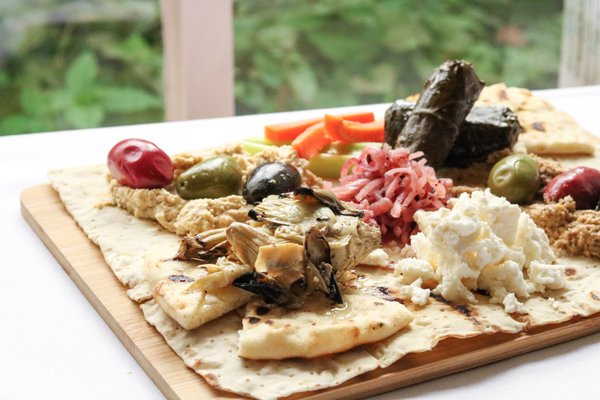curry: (1, 94, 579, 400)
sandwich: (81, 106, 600, 373)
